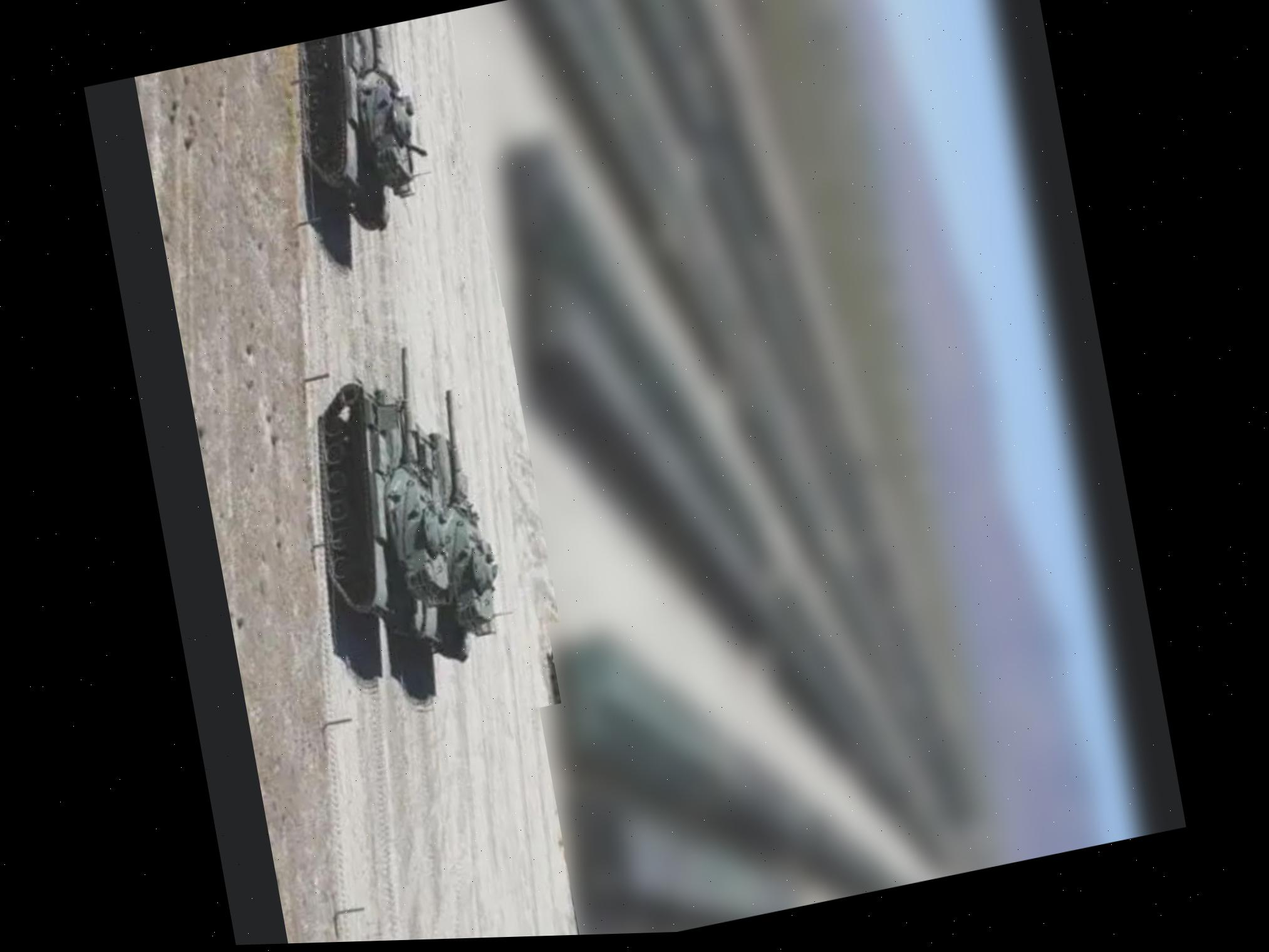tank: (303, 363, 466, 699), (289, 21, 436, 245)
